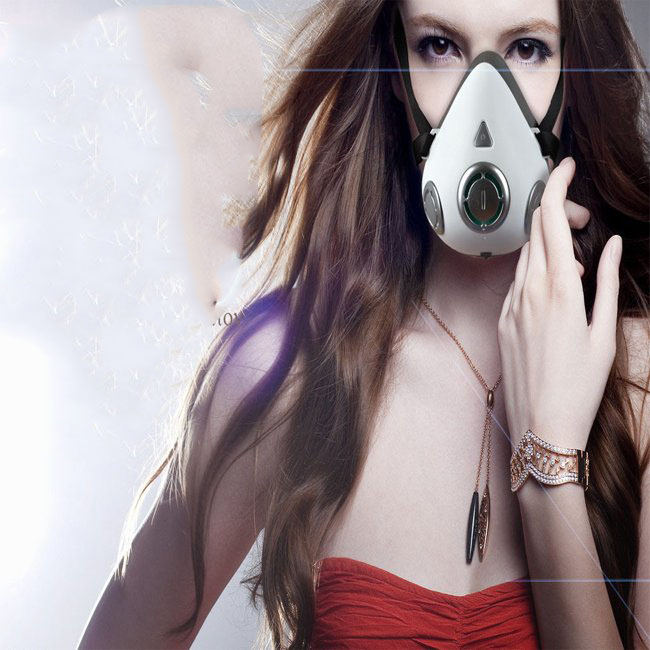face_mask: (395, 0, 565, 194)
